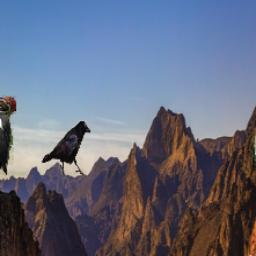Crow: (42, 121, 90, 176)
Woodpecker: (0, 95, 17, 194), (247, 116, 256, 201)
